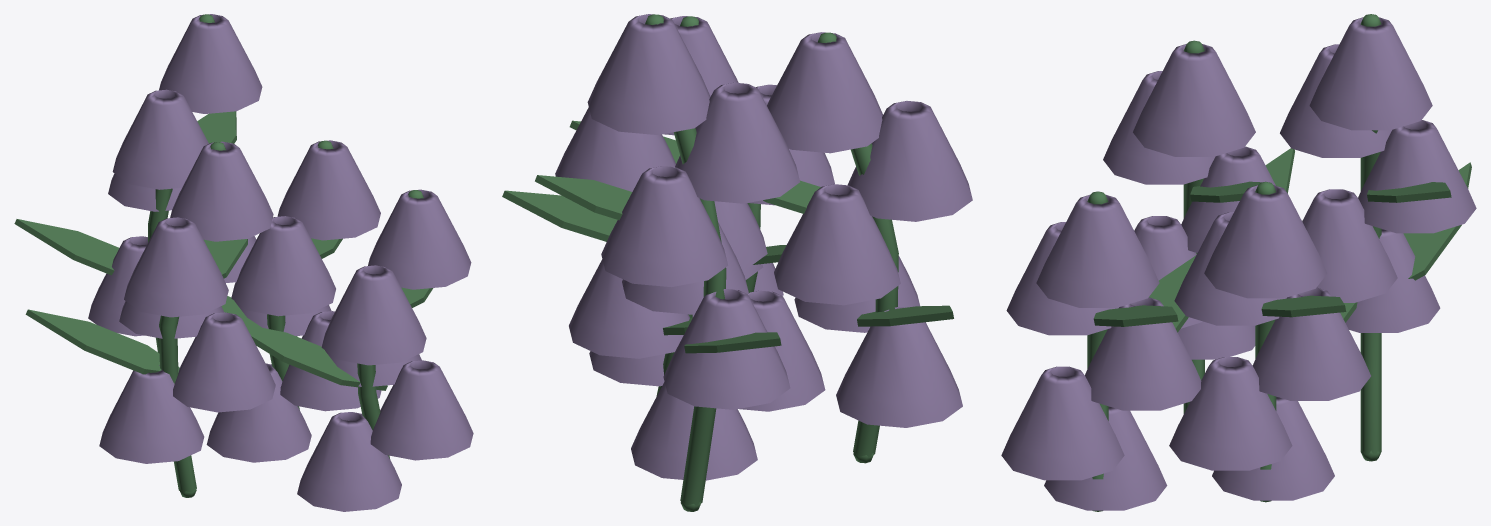
Rendered from almanac-gardens-bluebell-clump-12b29f1a__22037.glb.
3 renders of one model, left to right at view 1: azimuth 30°, elevation 25°; view 2: azimuth 150°, elevation 25°; view 3: azimuth 270°, elevation 25°, orthographic. The views are drawn at different scales.
Visible parts, largest first — view 1: bluebell-clump-purple, bluebell-clump-leaf; view 2: bluebell-clump-purple, bluebell-clump-leaf; view 3: bluebell-clump-purple, bluebell-clump-leaf.
Boxes of the visible parts, left/top/right/bottom form: bluebell-clump-purple: left=88, top=14, right=473, bottom=511; bluebell-clump-leaf: left=14, top=14, right=433, bottom=497; bluebell-clump-purple: left=555, top=14, right=972, bottom=480; bluebell-clump-leaf: left=502, top=14, right=953, bottom=511; bluebell-clump-purple: left=1001, top=17, right=1476, bottom=510; bluebell-clump-leaf: left=1087, top=14, right=1471, bottom=511.
Bounding box in the file's own units: 0.5551 × 0.5805 × 0.5395.
